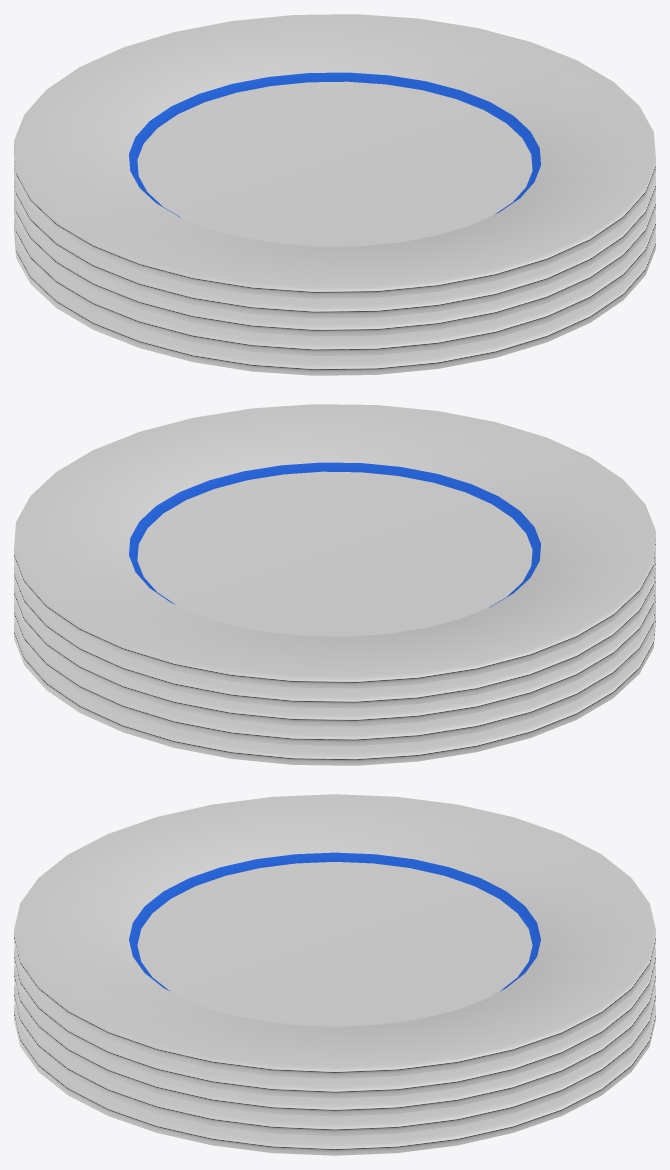
The model's file is stack_of_plates.fbx.
3 renders of one model, top to bottom at view 1: azimuth 30°, elevation 25°; view 2: azimuth 150°, elevation 25°; view 3: azimuth 270°, elevation 25°, orthographic.
Parts seen in each view (by area): view 1: plate.006; view 2: plate.006; view 3: plate.006.
Boxes of the visible parts, x1,y1,x2,y2 form: plate.006: [14, 14, 655, 375]; plate.006: [14, 404, 655, 765]; plate.006: [14, 794, 655, 1155].
Size of the model in its own units: 200 by 35.53 by 200.
